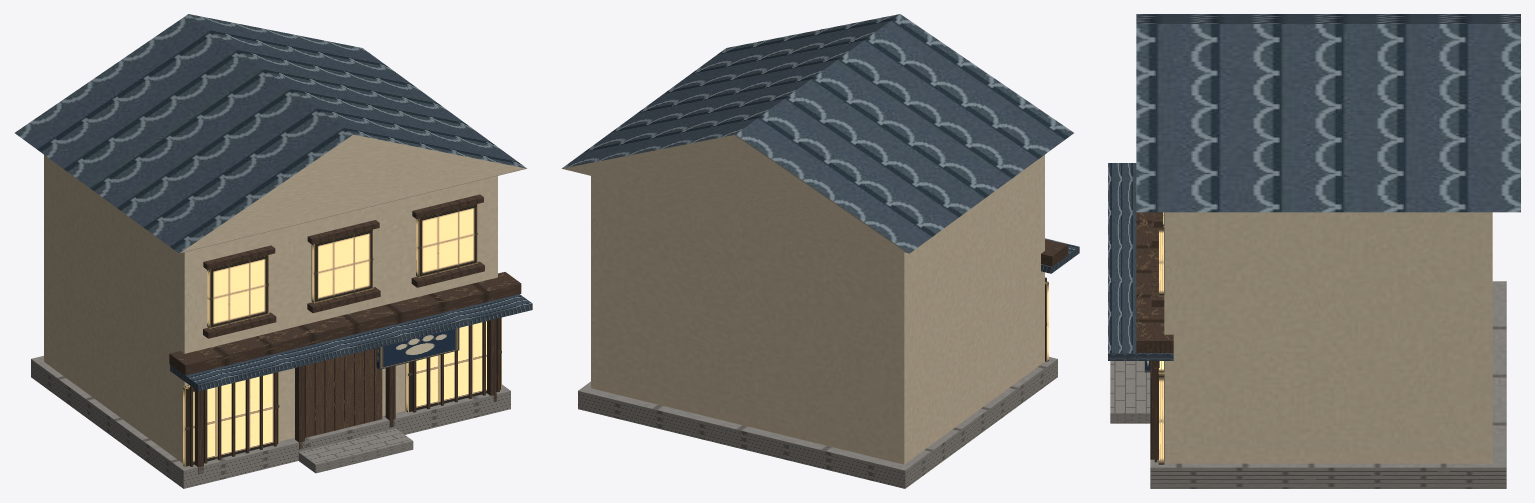
Rendered from nyanisyarud-tsukimi-machiya.glb.
3 renders of one model, left to right at view 1: azimuth 30°, elevation 25°; view 2: azimuth 150°, elevation 25°; view 3: azimuth 270°, elevation 25°, orthographic. The views are drawn at different scales.
Parts seen in each view (by area): view 1: nyanisyarud-tsukimi-machiya; view 2: nyanisyarud-tsukimi-machiya; view 3: nyanisyarud-tsukimi-machiya.
Part boxes in pixels (x1,y1,x2,y2): nyanisyarud-tsukimi-machiya: [15, 14, 532, 488]; nyanisyarud-tsukimi-machiya: [562, 14, 1079, 488]; nyanisyarud-tsukimi-machiya: [1108, 14, 1520, 488].
Bounding box in the file's own units: 10 × 8.75 × 8.8.
Materials: 1 (1 with a texture image).
